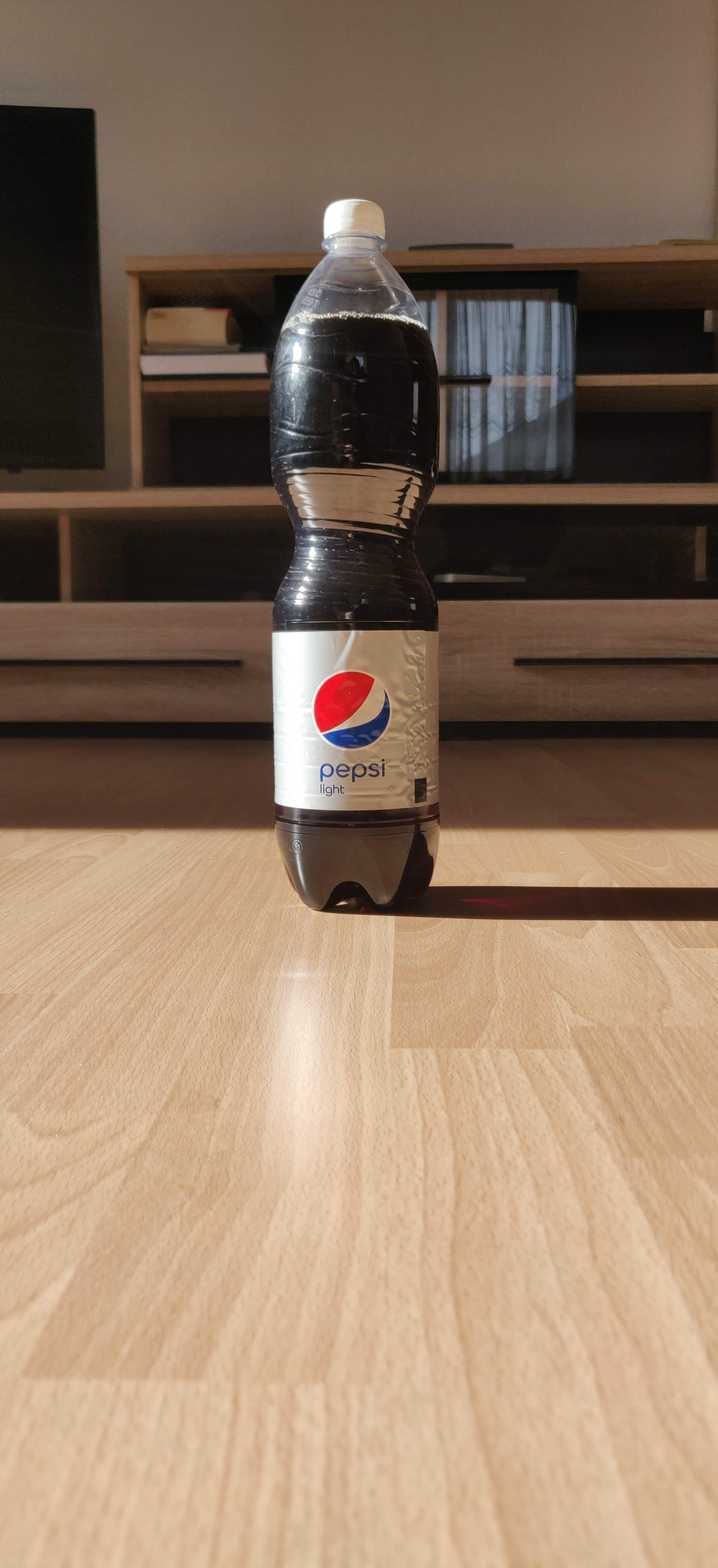bottle-plastic: (265, 196, 447, 915)
